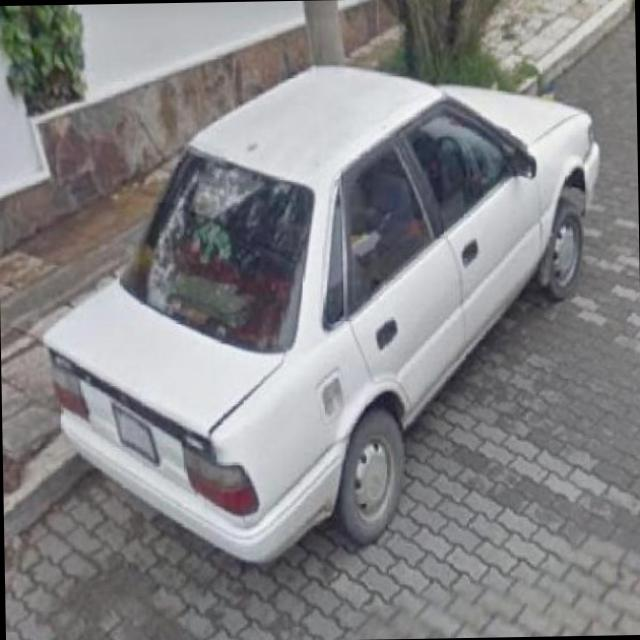car: (41, 19, 602, 566)
